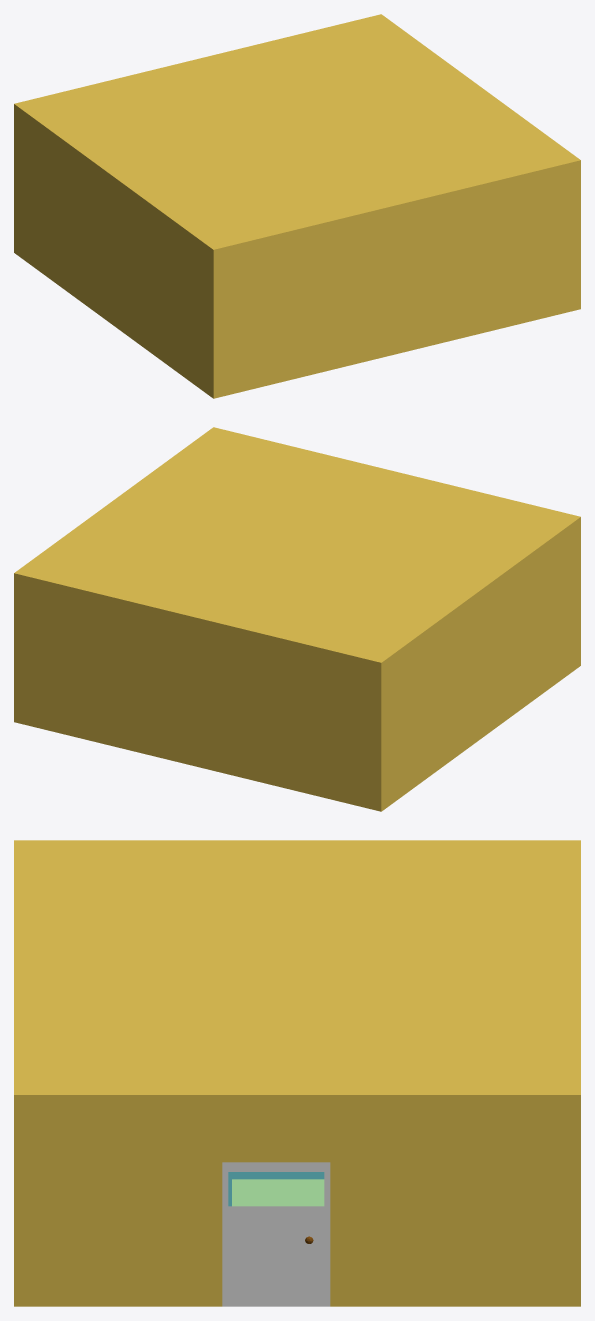
The model's file is lab por dentro  (1) (1).fbx.
3 views of the same model, one above another, from view 1: azimuth 30°, elevation 25°; view 2: azimuth 150°, elevation 25°; view 3: azimuth 270°, elevation 25° (orthographic). The views are drawn at different scales.
Parts seen in each view (by area): view 1: lab por dentro.002; view 2: lab por dentro.002; view 3: lab por dentro.002, piso, mesa central.
Part boxes in pixels (x1=…): lab por dentro.002: x1=14, y1=14, x2=580, y2=398; lab por dentro.002: x1=14, y1=427, x2=580, y2=811; lab por dentro.002: x1=14, y1=840, x2=580, y2=1306; piso: x1=232, y1=1179, x2=324, y2=1206; mesa central: x1=228, y1=1172, x2=324, y2=1206.
Bounding box in the file's own units: 6601 × 2634 × 6187.
